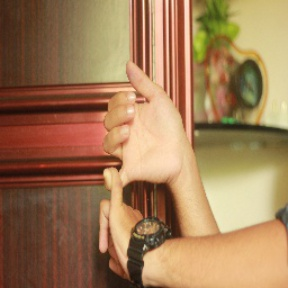S: (92, 57, 183, 283)
